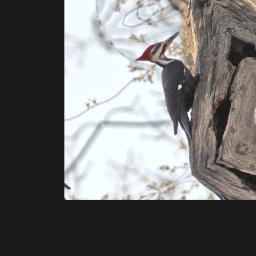Woodpecker: (130, 30, 231, 149)
